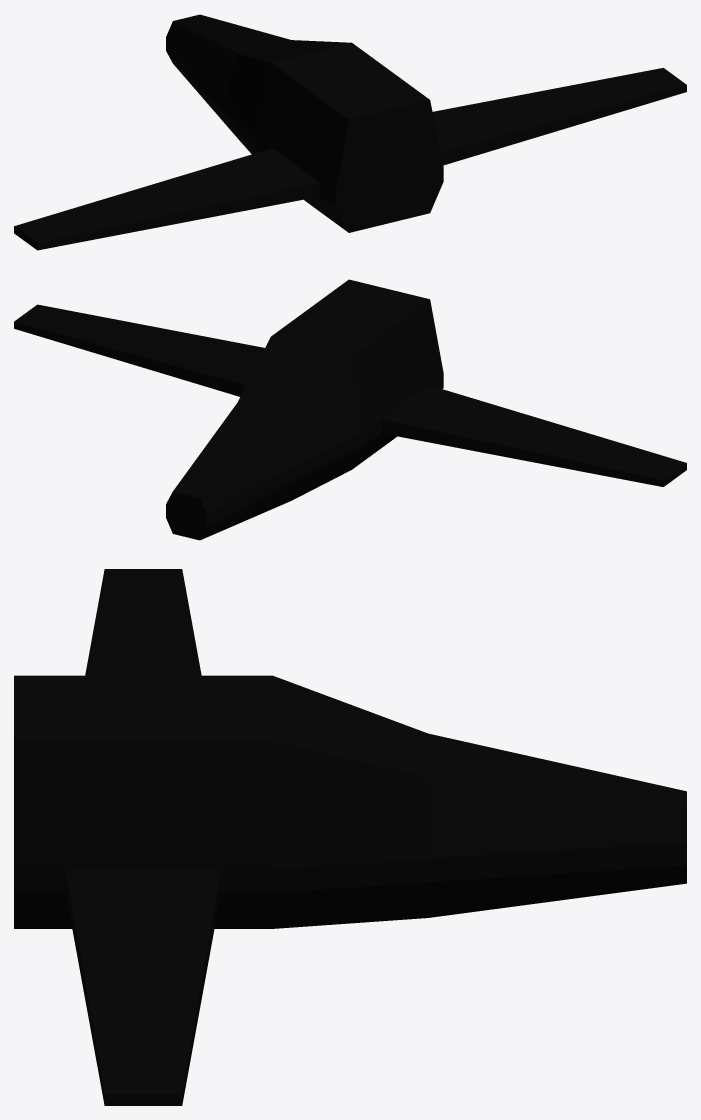
The model's file is spaceship.fbx.
3 views of the same model, one above another, from view 1: azimuth 30°, elevation 25°; view 2: azimuth 150°, elevation 25°; view 3: azimuth 270°, elevation 25° (orthographic). The views are drawn at different scales.
Parts seen in each view (by area): view 1: Cube; view 2: Cube; view 3: Cube.
Part boxes in pixels (x1,y1,x2,y2): Cube: [14, 14, 686, 250]; Cube: [14, 279, 686, 540]; Cube: [14, 569, 686, 1105].
Bounding box in the file's own units: 24 × 4 × 13.
